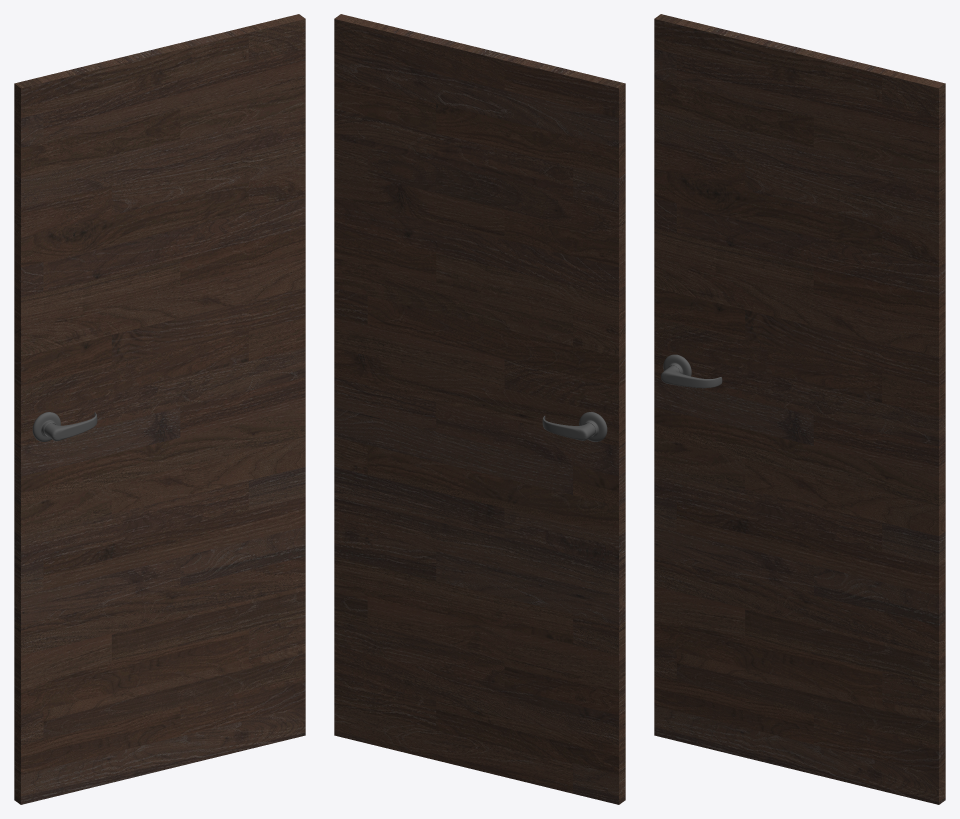
File: puertasimple.fbx
The picture shows the model from 3 angles, left to right: view 1: azimuth 30°, elevation 25°; view 2: azimuth 150°, elevation 25°; view 3: azimuth 330°, elevation 25°; orthographic projection.
Visible parts, largest first — view 1: Door, Handle_Back; view 2: Door, Handle_Front; view 3: Door, Handle_Back.
Boxes of the visible parts, x1,y1,x2,y2 form: Door: [14, 14, 305, 804]; Handle_Back: [32, 412, 97, 441]; Door: [334, 14, 625, 804]; Handle_Front: [542, 412, 607, 441]; Door: [654, 14, 945, 804]; Handle_Back: [661, 354, 722, 388].
Bounding box in the file's own units: 0.836 × 2.01 × 0.1688.
2 materials, 1 textured.
